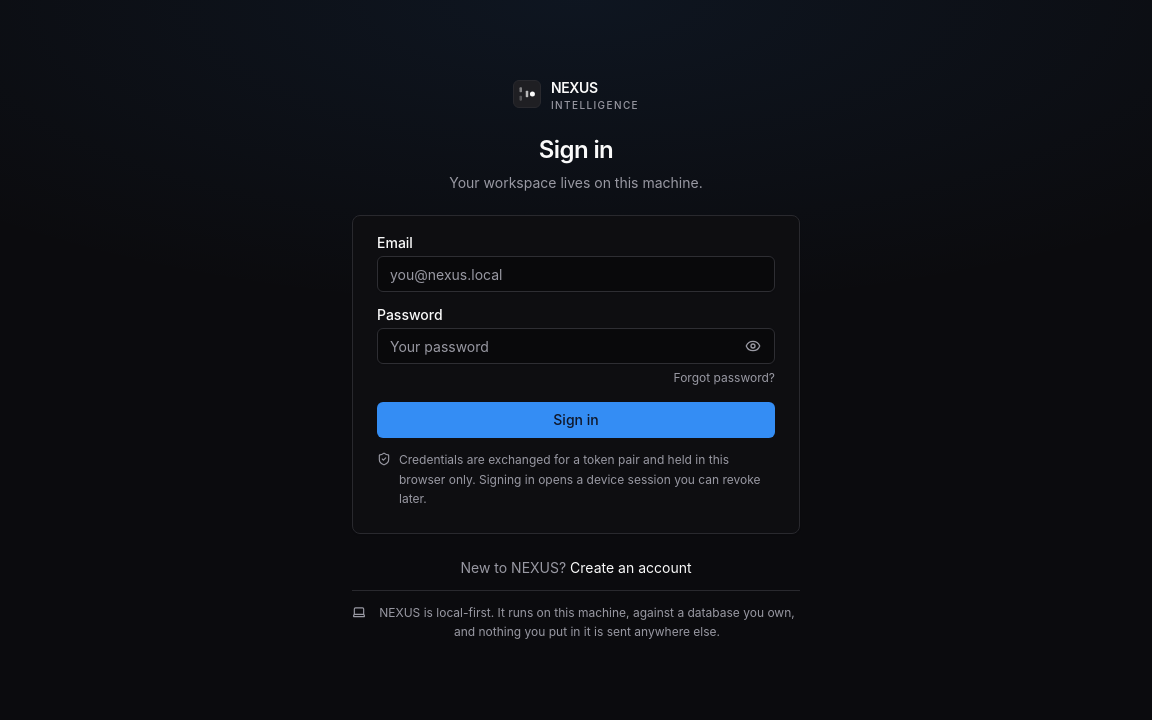
Scenario: tmp auth network paths › shows a human 401 on the login form
Type "ada@nexus.local" into the field labelled "Email" at (576,274), box top-left (377, 256), bottom-right (775, 292)
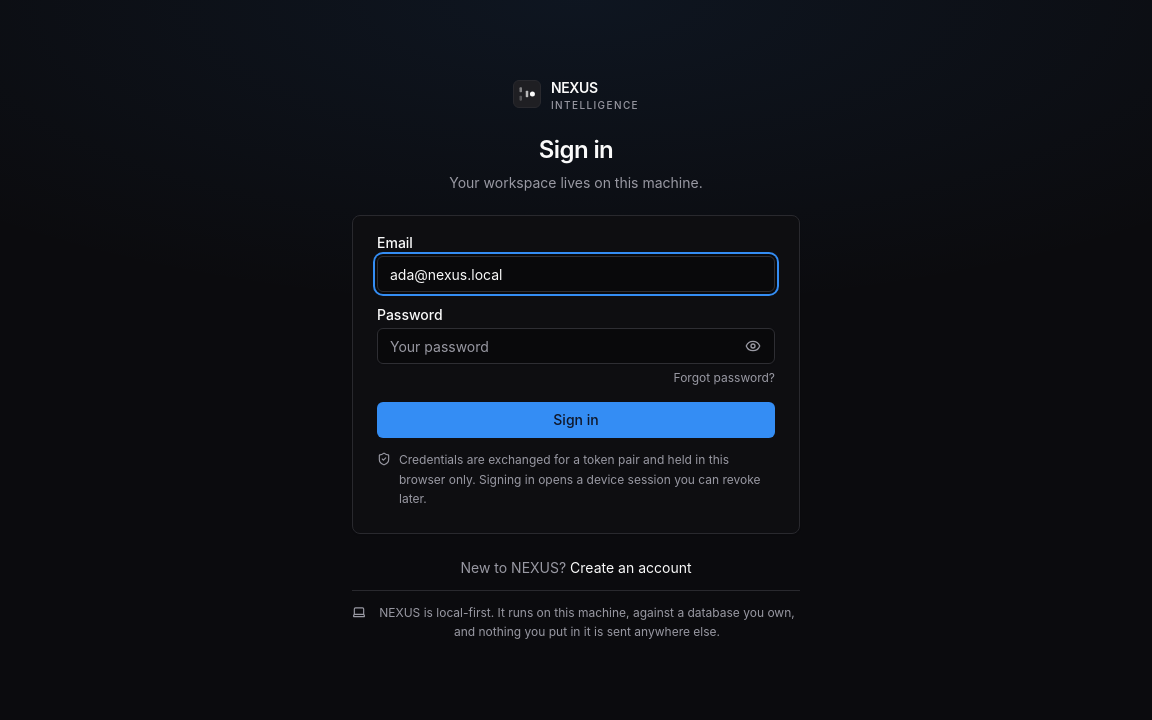
Type "wrong" into the password field labelled "Password" at (576,346), box top-left (377, 328), bottom-right (775, 364)
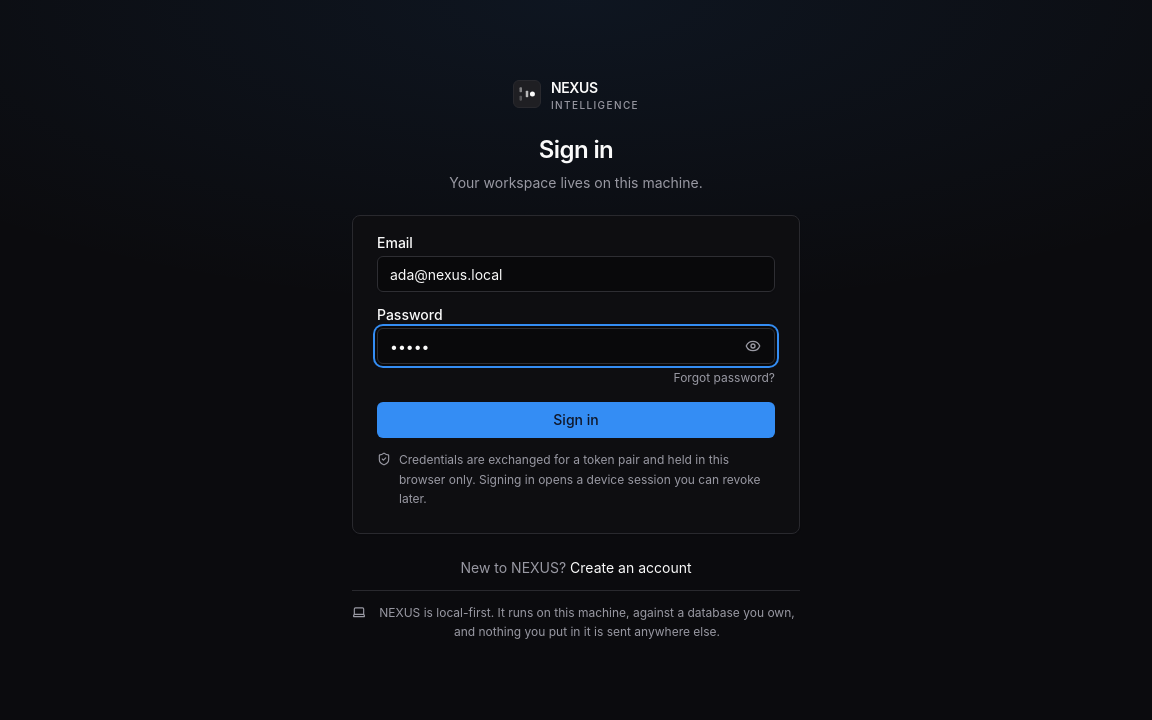
Click the button "Sign in" at (576,420), box top-left (377, 402), bottom-right (775, 438)
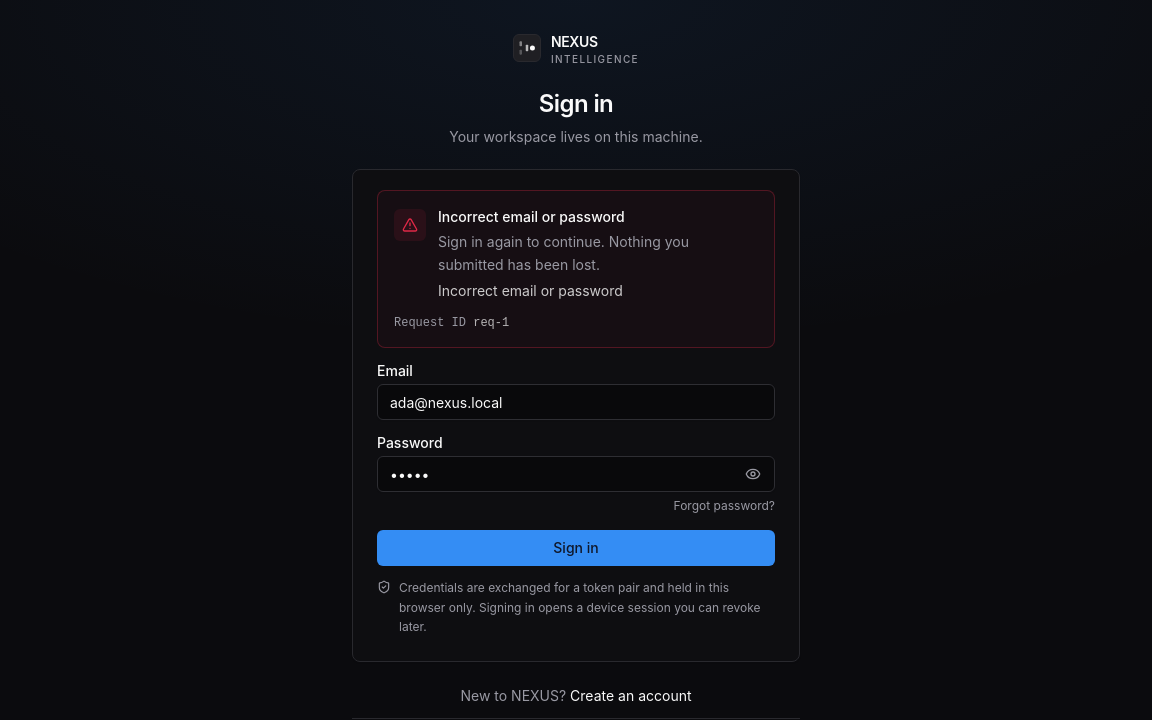
Expected: the message shows "Incorrect email or password", top-left (438, 208), bottom-right (625, 225)
